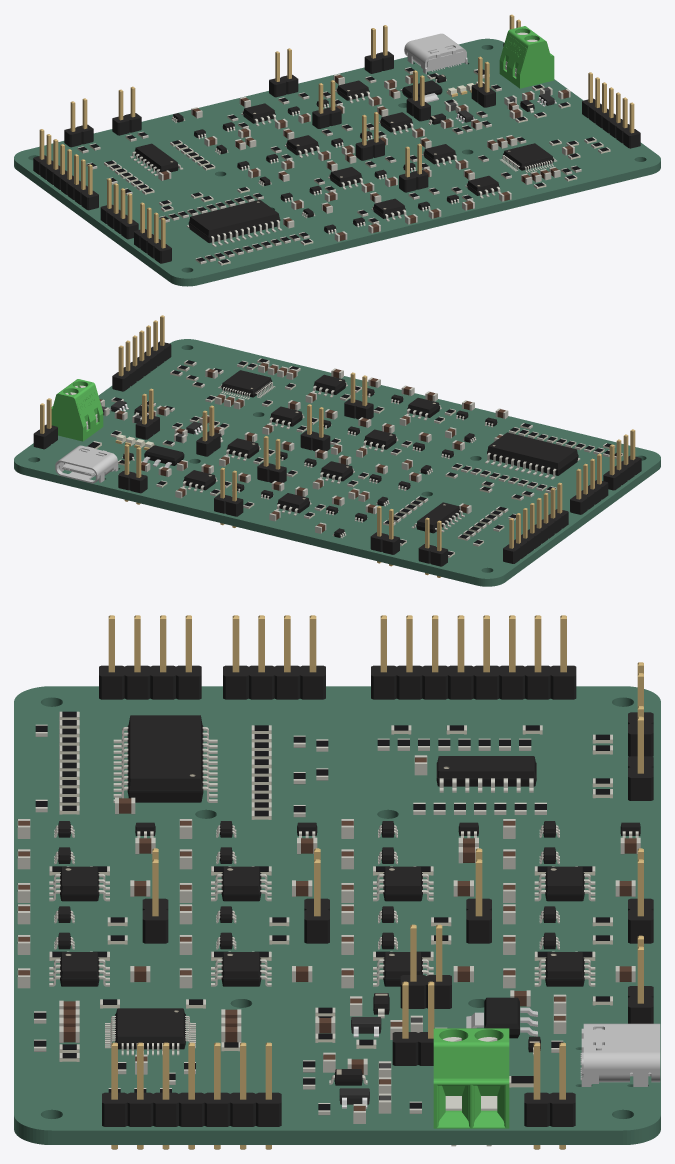
Rendered from FYDP 3D coloured.glb.
3 renders of one model, top to bottom at view 1: azimuth 30°, elevation 25°; view 2: azimuth 150°, elevation 25°; view 3: azimuth 270°, elevation 25°, orthographic. The views are drawn at different scales.
Visible parts, largest first — view 1: _autosave-fydp PCB, SOLID104, COMPOUND013, SOLID110, SOLID196, COMPOUND022, SOLID024, SOLID087, SOLID107, SOLID016, SOLID152, SOLID097 (+15 smaller); view 2: _autosave-fydp PCB, SOLID104, SOLID110, COMPOUND013, SOLID196, COMPOUND022, SOLID087, SOLID024, SOLID107, SOLID084, SOLID016, SOLID002 (+17 smaller); view 3: _autosave-fydp PCB, SOLID110, SOLID196, SOLID104, COMPOUND013, SOLID024, SOLID087, COMPOUND022, SOLID107, SOLID016, SOLID176, SOLID132 (+17 smaller).
Boxes of the visible parts, x1,y1,x2,y2 form: _autosave-fydp PCB: (14, 38, 660, 286); SOLID104: (186, 199, 282, 246); COMPOUND013: (499, 26, 554, 88); SOLID110: (33, 129, 98, 210); SOLID196: (582, 72, 640, 148); COMPOUND022: (404, 33, 467, 74); SOLID024: (100, 178, 138, 239); SOLID087: (134, 202, 171, 263); SOLID107: (500, 143, 556, 172); SOLID016: (130, 143, 183, 175); SOLID152: (64, 98, 93, 147); SOLID097: (112, 86, 141, 135); _autosave-fydp PCB: (14, 339, 660, 586); SOLID104: (485, 432, 580, 479); SOLID110: (503, 482, 568, 563); COMPOUND013: (51, 379, 103, 441); SOLID196: (112, 315, 171, 391); COMPOUND022: (55, 445, 118, 483); SOLID087: (603, 429, 641, 490); SOLID024: (570, 453, 608, 514); SOLID107: (218, 370, 275, 399); SOLID084: (118, 444, 147, 504); SOLID016: (411, 502, 464, 533); SOLID002: (344, 372, 373, 419); _autosave-fydp PCB: (14, 686, 660, 1144); SOLID110: (371, 615, 576, 699); SOLID196: (102, 1042, 281, 1149); SOLID104: (113, 715, 217, 802); COMPOUND013: (433, 1028, 509, 1128); SOLID024: (223, 615, 325, 699); SOLID087: (99, 615, 201, 699); COMPOUND022: (580, 1023, 660, 1086); SOLID107: (105, 1008, 195, 1055); SOLID016: (436, 756, 536, 792); SOLID176: (524, 1042, 575, 1149); SOLID132: (400, 924, 451, 1008).
Bounding box in the file's own units: 0.104 × 0.012 × 0.064.
